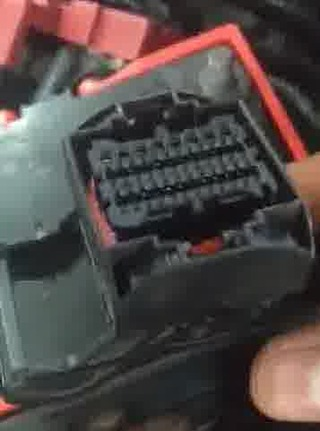connector: (61, 91, 317, 335)
